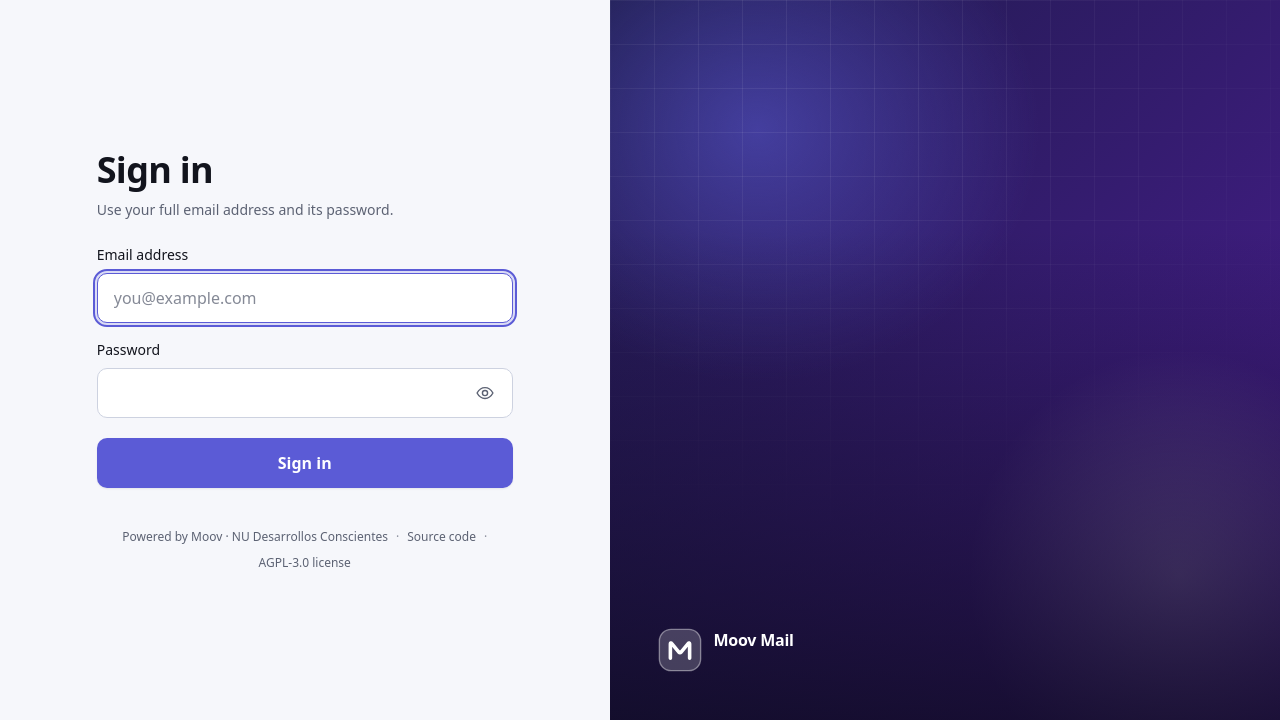
Test: client-side validation › refuses an empty email and moves focus to it
Click the button "Sign in". click: [305, 463]
box: [97, 438, 513, 488]
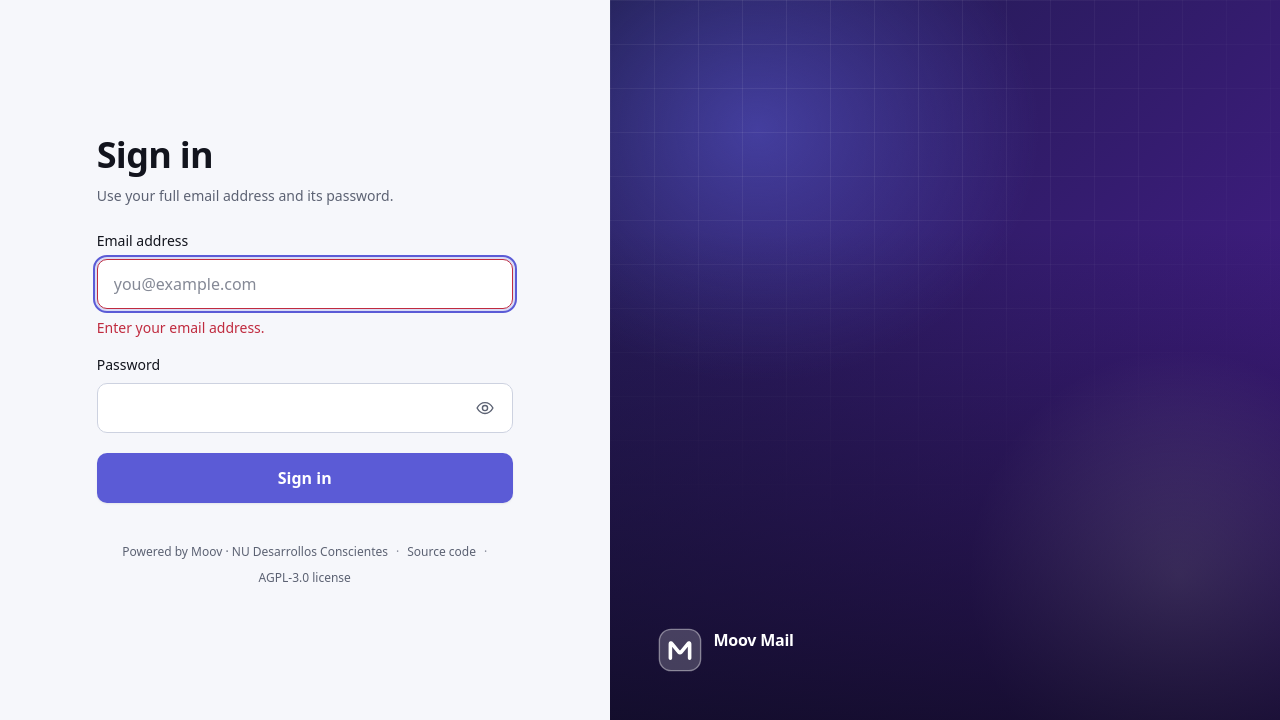
Expected: the text "Enter your email address." is shown, [97, 318, 265, 337]
